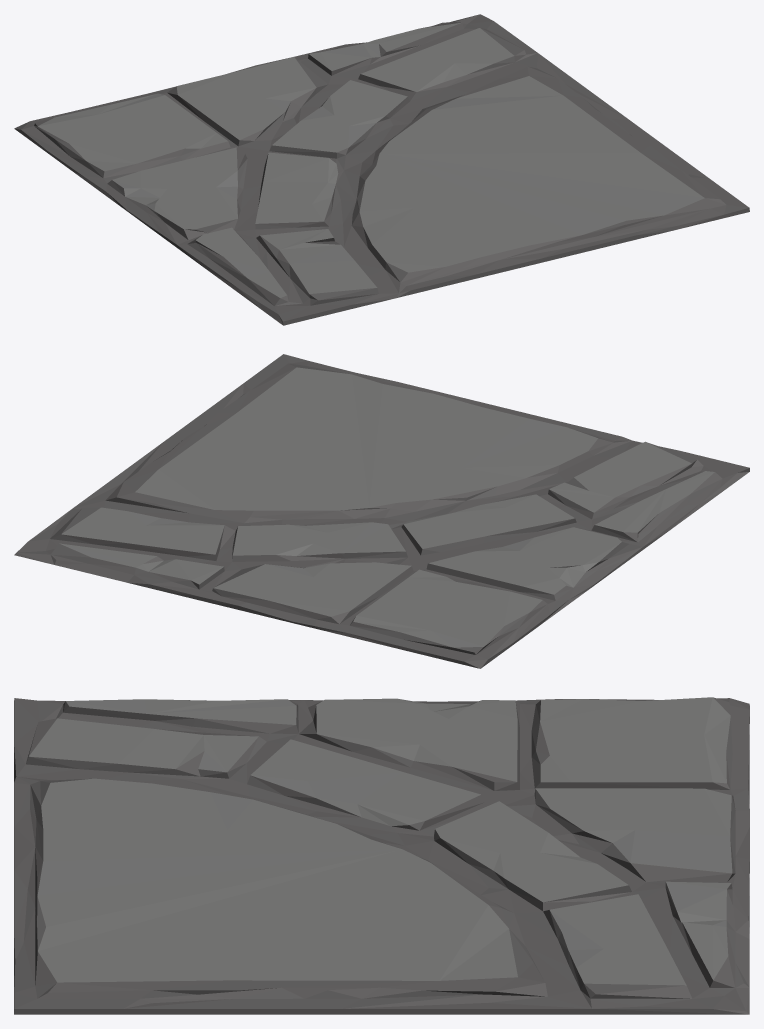
Rendered from SM_Env_Tiles_06.FBX.
3 renders of one model, top to bottom at view 1: azimuth 30°, elevation 25°; view 2: azimuth 150°, elevation 25°; view 3: azimuth 270°, elevation 25°, orthographic. The views are drawn at different scales.
Visible parts, largest first — view 1: SM_Env_Tiles_06; view 2: SM_Env_Tiles_06; view 3: SM_Env_Tiles_06.
Boxes of the visible parts, box(x1,y1,x2,y2) form: SM_Env_Tiles_06: box(14, 14, 749, 325); SM_Env_Tiles_06: box(14, 354, 749, 668); SM_Env_Tiles_06: box(14, 697, 749, 1014).
Size of what is drawn, in the model's own units: 500 by 500 by 10.14.
